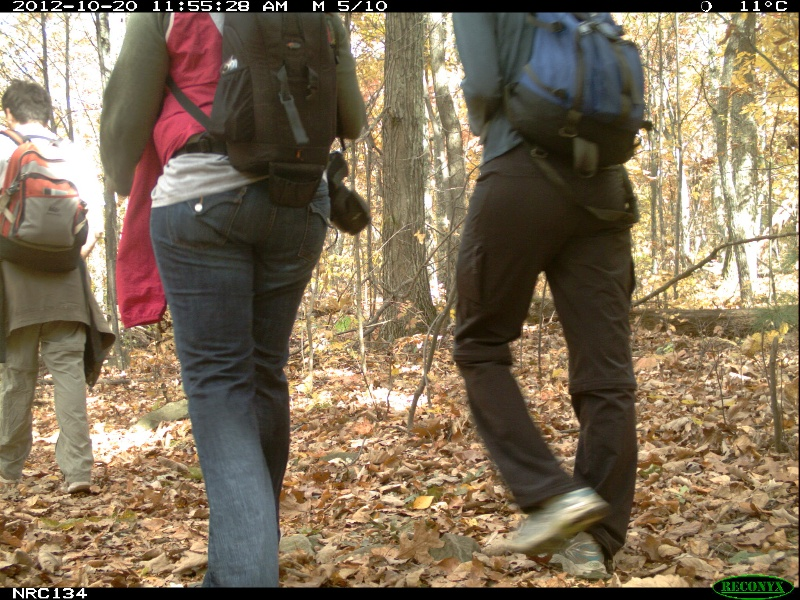human legs: (442, 146, 640, 580), (140, 173, 340, 586), (1, 277, 108, 507)
